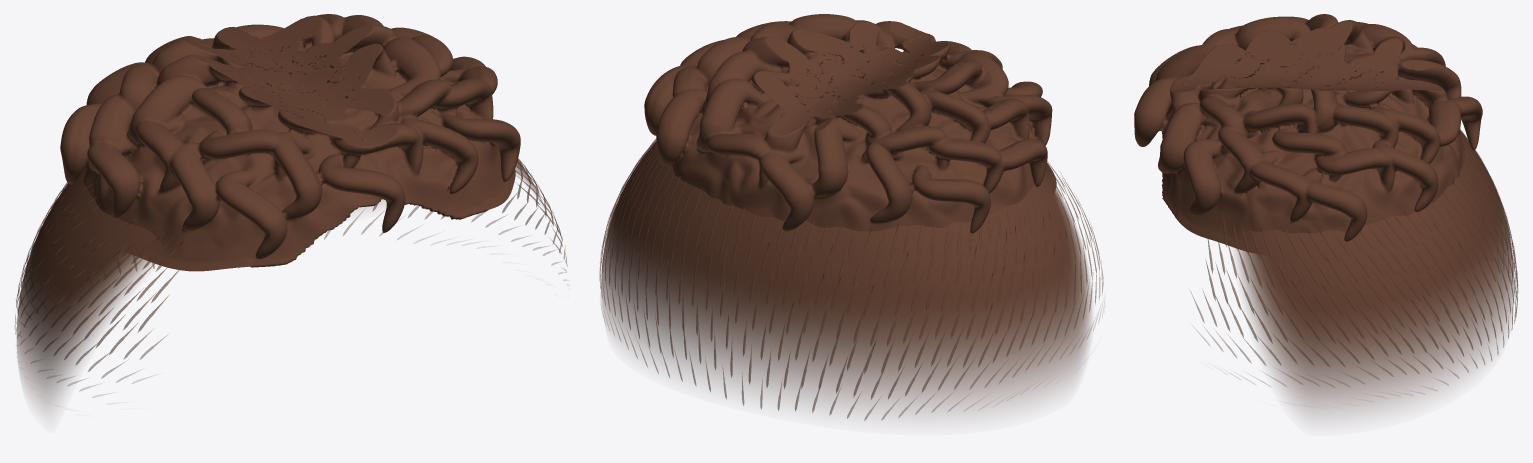
The model's file is Masculine-curly-top-cowboy259-hair.glb.
The picture shows the model from 3 angles, left to right: view 1: azimuth 30°, elevation 25°; view 2: azimuth 150°, elevation 25°; view 3: azimuth 270°, elevation 25°; orthographic projection. The views are drawn at different scales.
Visible parts, largest first — view 1: 226 hair / Hair252 / sculpted curl groups, 226 hair / Hair258 / smooth side fade, 226 hair / Hair259 / directional fade marks214; view 2: 226 hair / Hair258 / smooth side fade, 226 hair / Hair252 / sculpted curl groups, 226 hair / Hair259 / directional fade marks214; view 3: 226 hair / Hair252 / sculpted curl groups, 226 hair / Hair258 / smooth side fade, 226 hair / Hair259 / directional fade marks214.
Boxes of the visible parts, left/top/right/bottom form: 226 hair / Hair252 / sculpted curl groups: left=60, top=14, right=520, bottom=271; 226 hair / Hair258 / smooth side fade: left=17, top=80, right=546, bottom=410; 226 hair / Hair259 / directional fade marks214: left=15, top=153, right=567, bottom=397; 226 hair / Hair258 / smooth side fade: left=601, top=79, right=1091, bottom=415; 226 hair / Hair252 / sculpted curl groups: left=644, top=14, right=1056, bottom=233; 226 hair / Hair259 / directional fade marks214: left=599, top=139, right=1104, bottom=420; 226 hair / Hair252 / sculpted curl groups: left=1134, top=14, right=1482, bottom=252; 226 hair / Hair258 / smooth side fade: left=1234, top=79, right=1514, bottom=417; 226 hair / Hair259 / directional fade marks214: left=1191, top=129, right=1518, bottom=393.
Size of the model in its own units: 0.9743 by 0.6416 by 0.7572.
